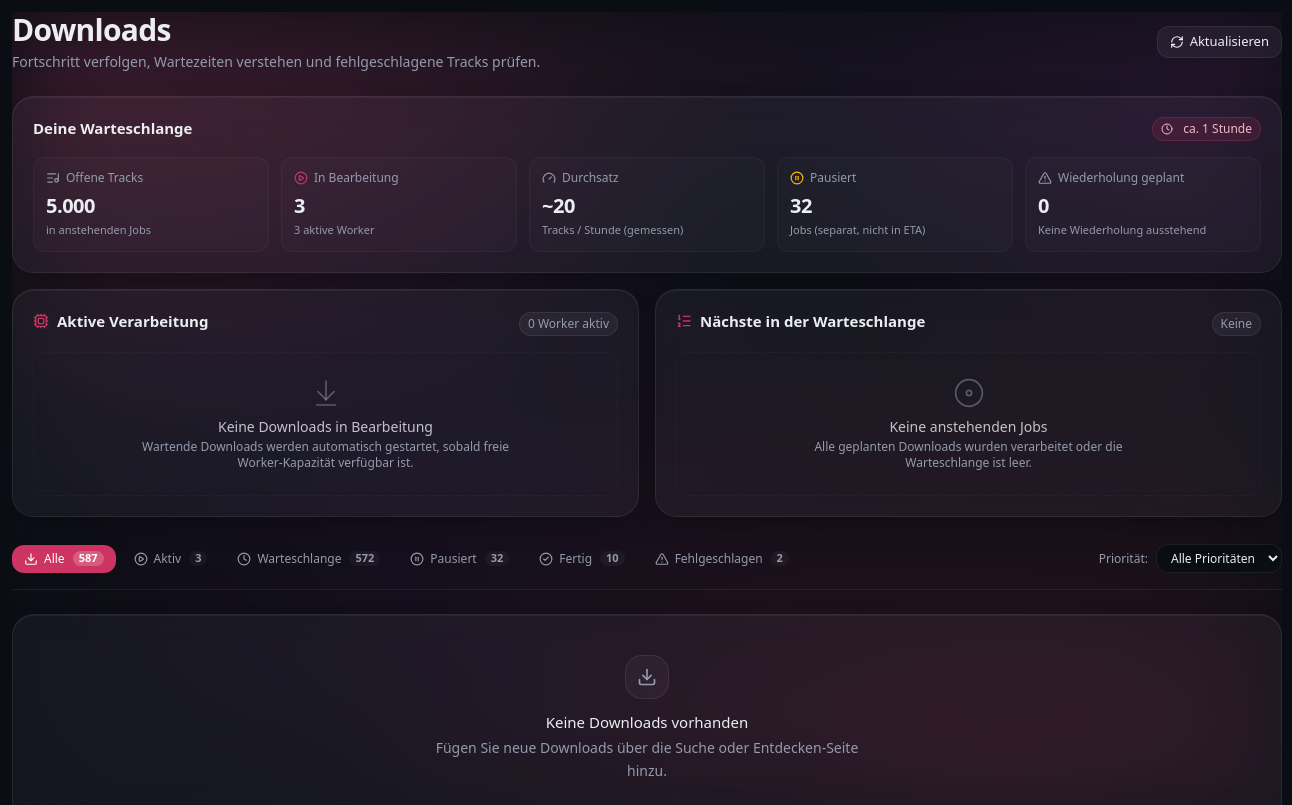
Downloads page tab counts › preserves last known queue summary and displays warning banner when background refresh fails
The width and height of the screenshot is (1292, 805).
Expected: the element named "Warteschlangen-Status und Vorschau" is shown, [12,96,1282,516]
// Click "Aktualisieren" button
Click the button "Aktualisieren". click: click(1219, 42)
box: [1157,26,1282,58]
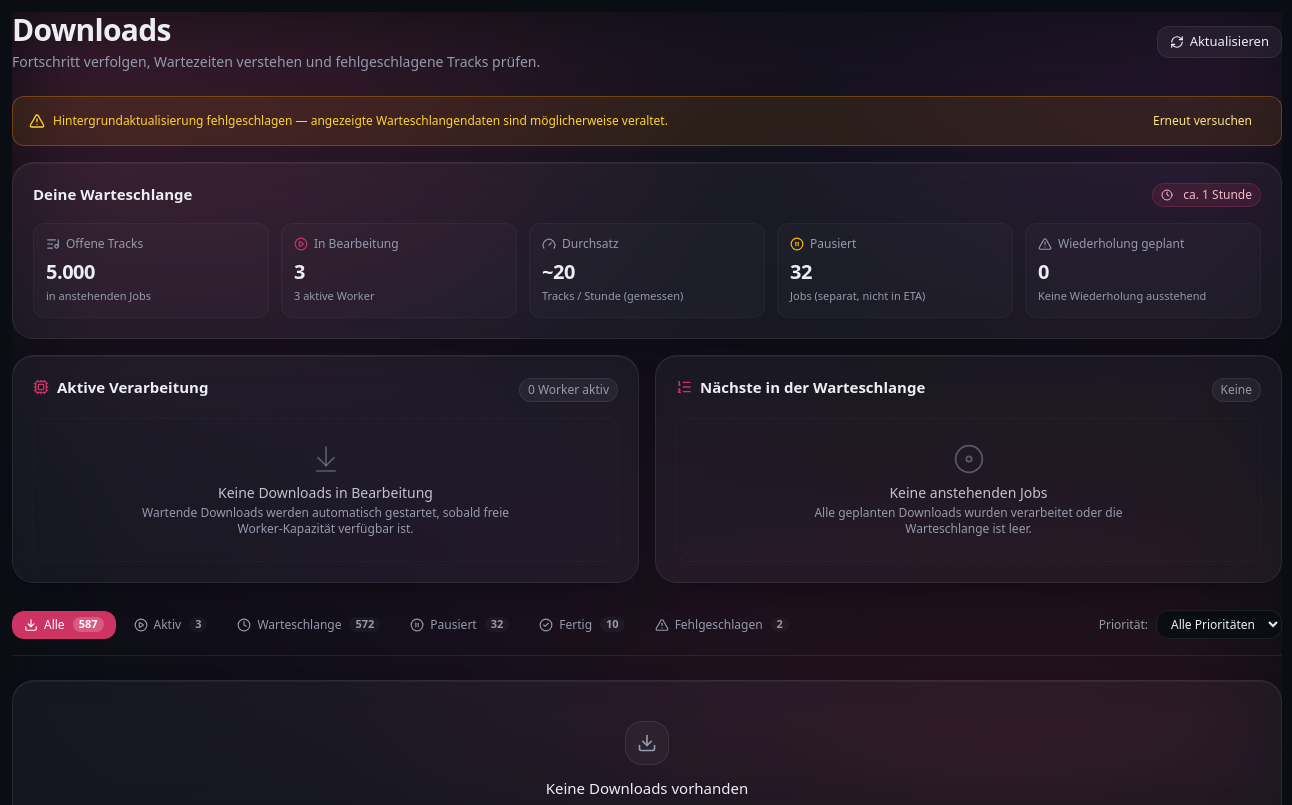
Expected: the element named "Warteschlangen-Status und Vorschau" is shown, [12,96,1282,582]
Expected: the text "Hintergrundaktualisierung fehlgeschlagen" is shown, [53,112,668,129]
